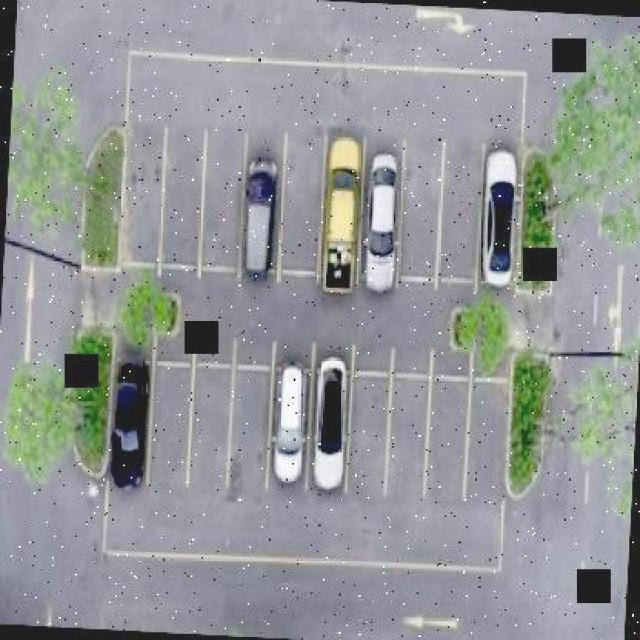space-empty: (120, 123, 165, 260), (440, 142, 483, 281), (281, 129, 323, 271), (149, 363, 195, 492), (161, 127, 204, 264), (204, 130, 246, 264), (402, 140, 442, 279), (350, 373, 392, 502), (191, 367, 232, 496), (389, 377, 431, 502), (231, 367, 272, 495), (427, 379, 470, 501), (468, 385, 506, 505)
space-occupied: (322, 135, 362, 294), (108, 356, 151, 493), (241, 146, 283, 285), (311, 359, 353, 496), (366, 153, 403, 296), (481, 149, 518, 282), (271, 362, 310, 488)
